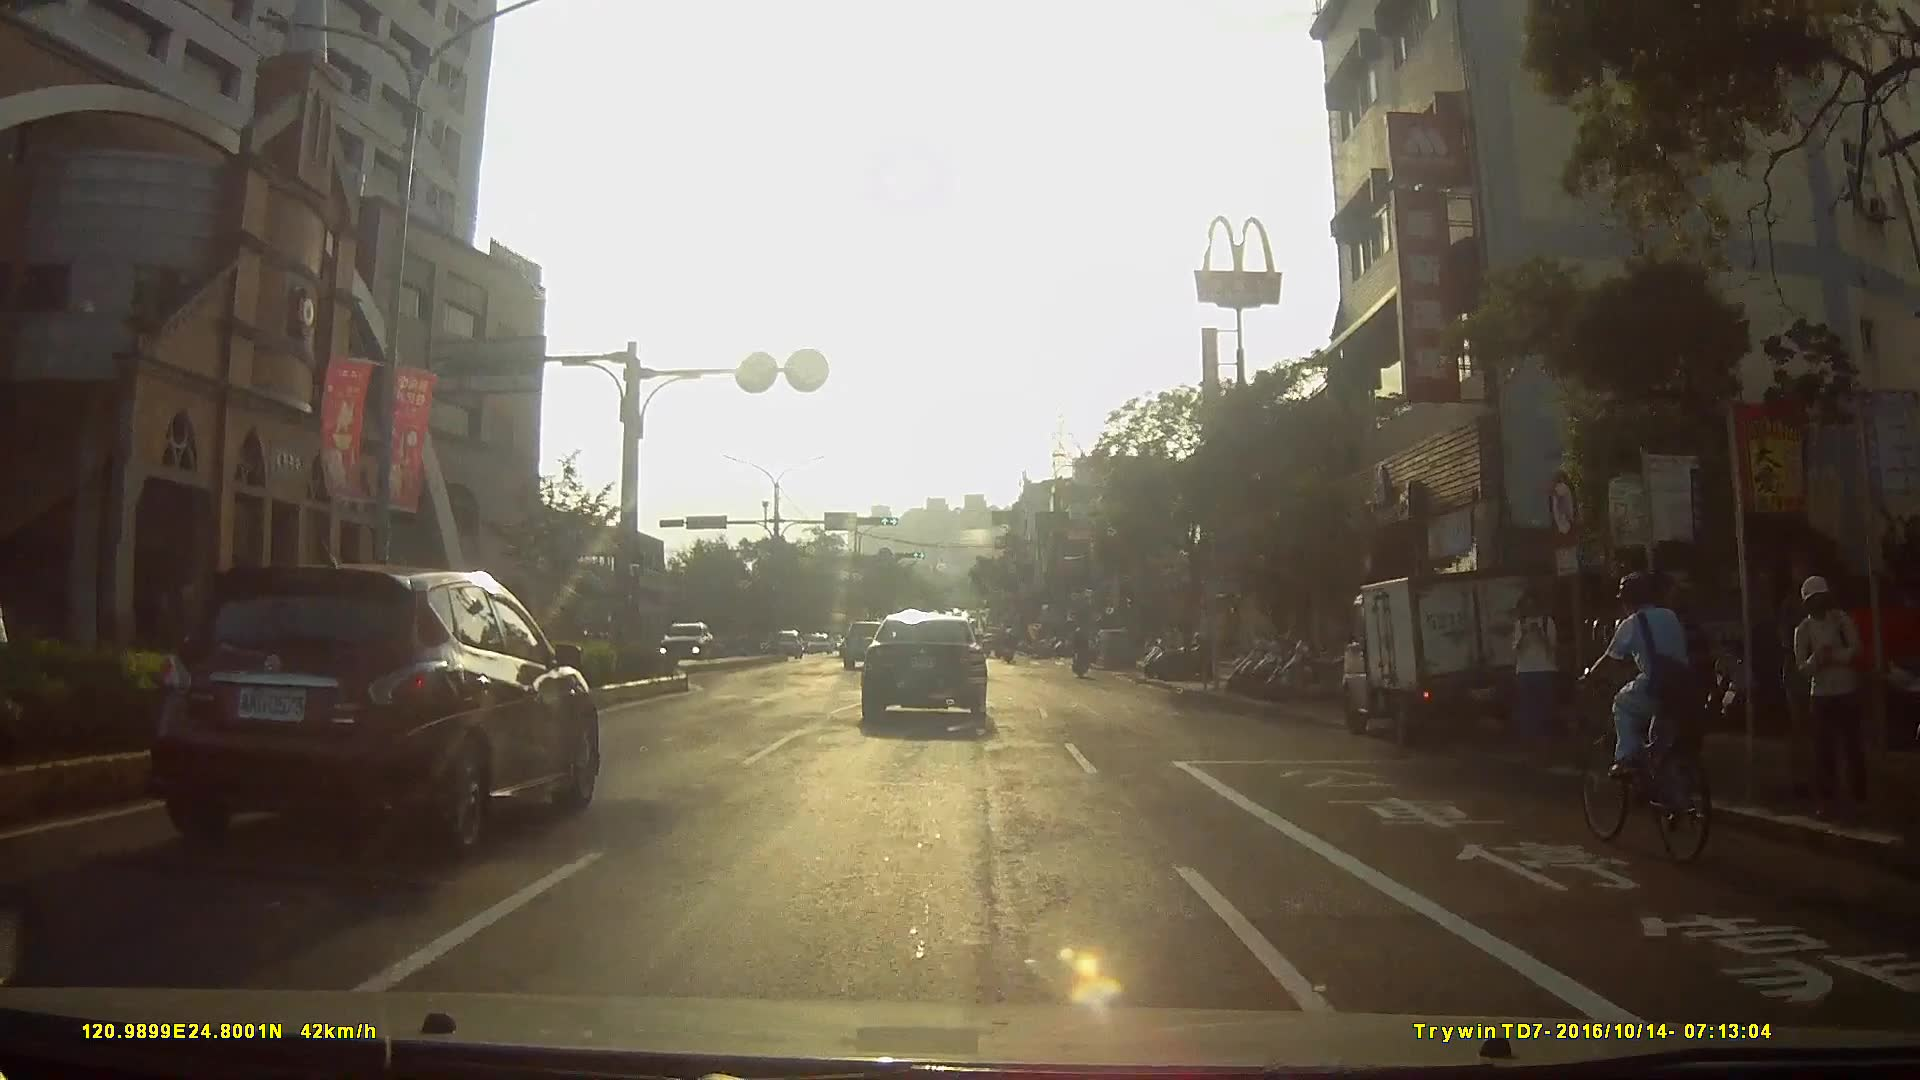pedestrian: (1792, 576, 1874, 820), (1662, 573, 1732, 815), (1508, 588, 1562, 771)
rider: (1574, 568, 1719, 871), (1070, 625, 1096, 685)
vehicle: (132, 561, 616, 857), (1332, 558, 1571, 758), (861, 611, 1004, 736), (837, 617, 896, 672), (649, 621, 715, 669), (755, 628, 796, 664)
